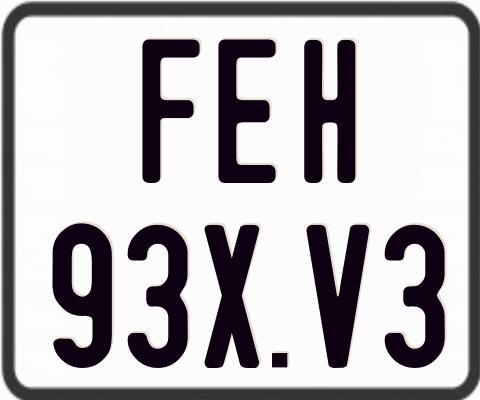3: (383, 223, 445, 369), (126, 222, 188, 367)
9: (49, 221, 115, 368)
E: (216, 36, 278, 181)
F: (140, 39, 202, 188)
H: (301, 40, 355, 185)
V: (307, 223, 372, 372)
X: (205, 224, 263, 370)
